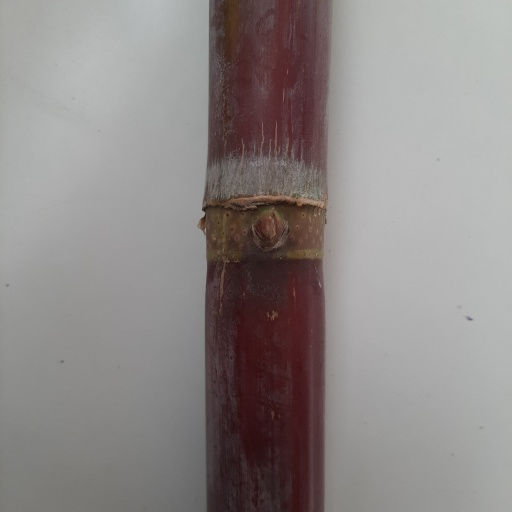Bud: (253, 204, 287, 252)
